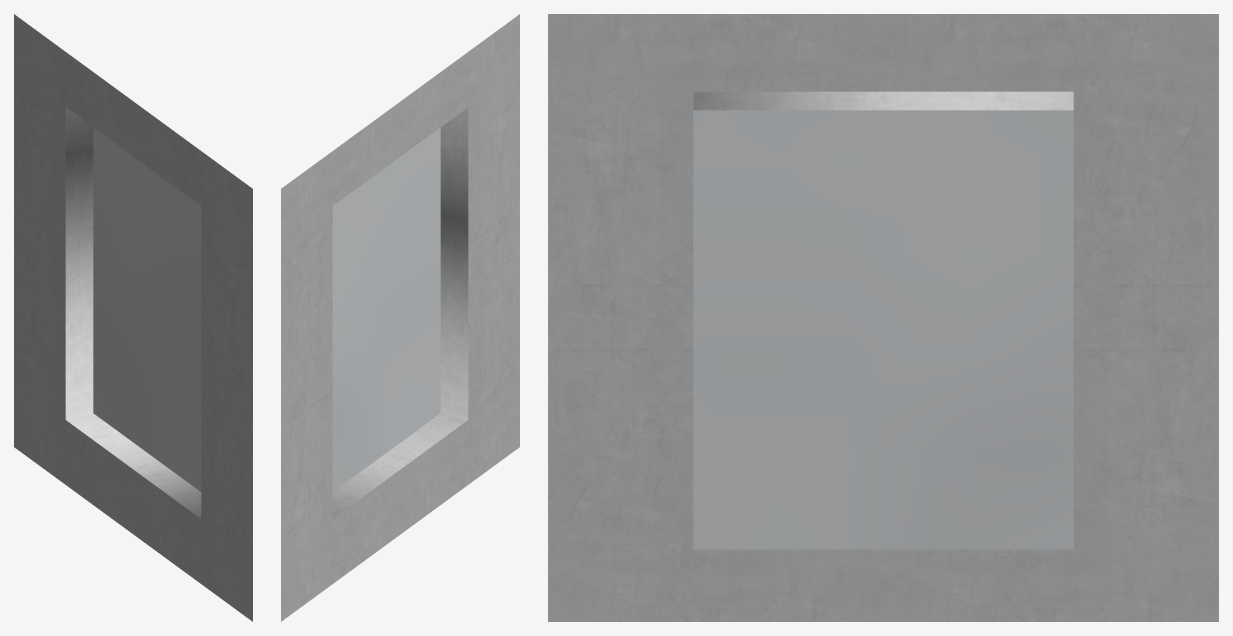
Rendered from wall w 3.fbx.
3 renders of one model, left to right at view 1: azimuth 30°, elevation 25°; view 2: azimuth 150°, elevation 25°; view 3: azimuth 270°, elevation 25°, orthographic. The views are drawn at different scales.
Parts seen in each view (by area): view 1: wall_w_3; view 2: wall_w_3; view 3: wall_w_3.
Part boxes in pixels (bbox=[...]): wall_w_3: bbox=[14, 14, 252, 621]; wall_w_3: bbox=[281, 14, 519, 621]; wall_w_3: bbox=[548, 14, 1218, 621].
Bounding box in the file's own units: 40 × 600 × 600.
